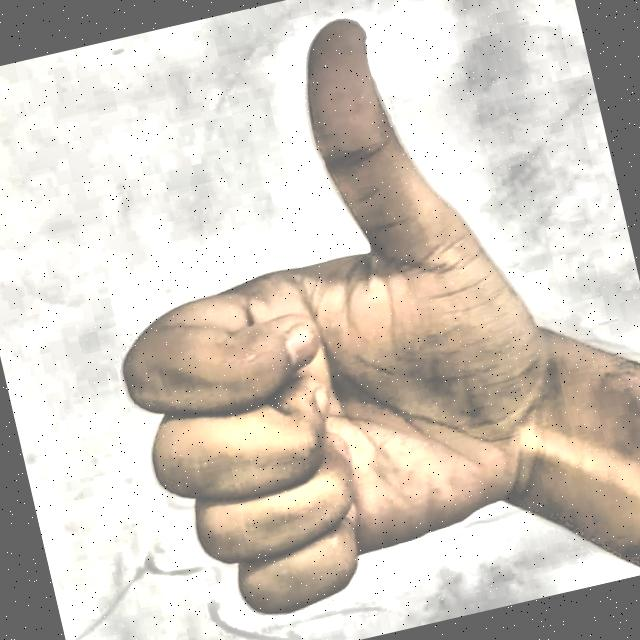Do: (0, 0, 594, 640)
